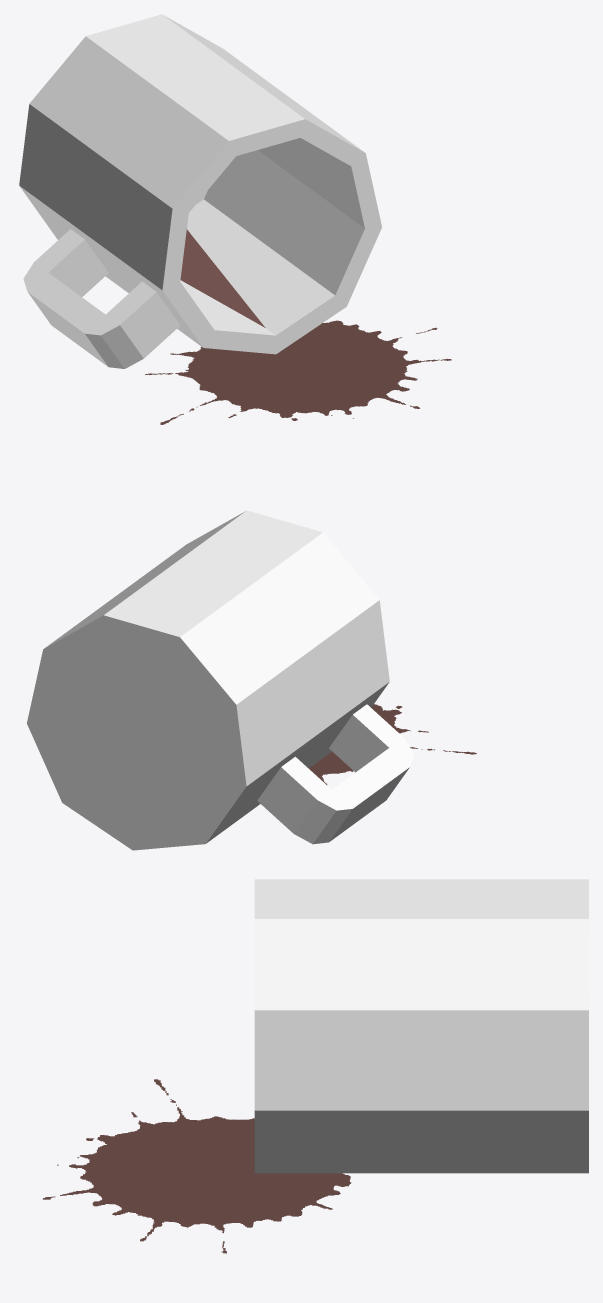
The model's file is mug_a.fbx.
3 views of the same model, one above another, from view 1: azimuth 30°, elevation 25°; view 2: azimuth 150°, elevation 25°; view 3: azimuth 270°, elevation 25° (orthographic). The views are drawn at different scales.
Visible parts, largest first — view 1: mug_a; view 2: mug_a; view 3: mug_a.
Part boxes in pixels (x1,y1,x2,y2): mug_a: (19,14,451,424); mug_a: (27,510,476,850); mug_a: (42,879,588,1253).
Size of the model in its own units: 16.89 by 8.81 by 17.21.
Materials: 2 (2 with a texture image).
